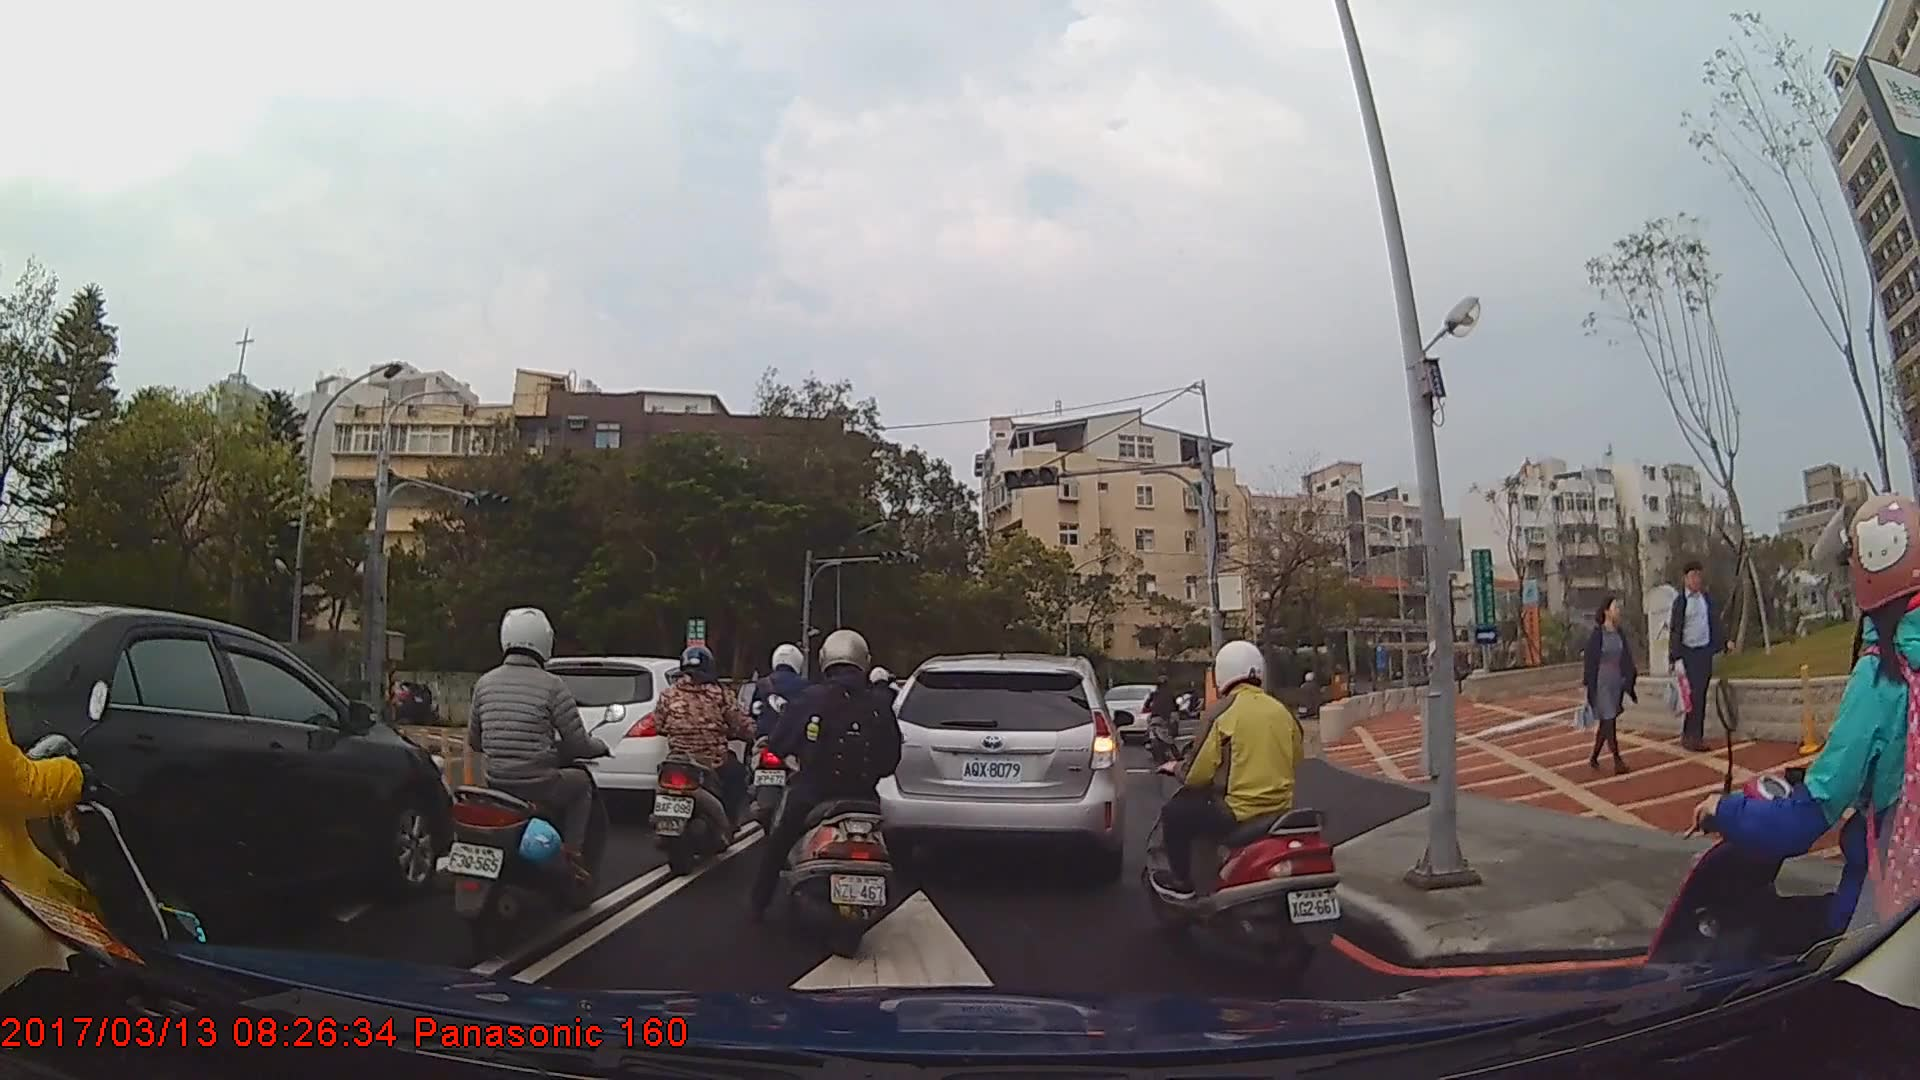pedestrian: (1568, 595, 1639, 775), (1664, 564, 1727, 753)
rider: (1647, 491, 1915, 1079), (1140, 641, 1344, 981), (442, 606, 616, 953), (759, 629, 906, 959), (648, 646, 758, 875), (742, 638, 830, 842), (1141, 673, 1175, 760)
vehicle: (0, 600, 455, 952), (871, 653, 1126, 874), (516, 655, 759, 819), (359, 680, 430, 725)
